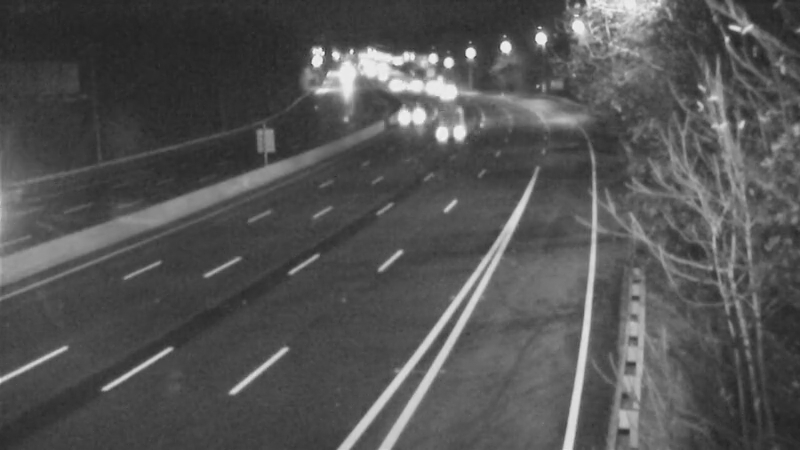vehicle: (402, 63, 452, 113), (424, 62, 474, 112), (390, 85, 440, 135), (421, 95, 471, 145)
